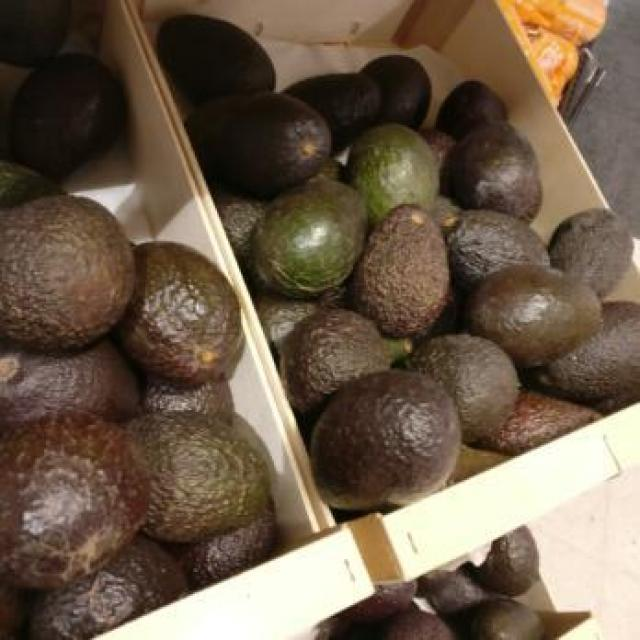Avocado: (0, 414, 153, 592), (101, 232, 247, 384), (305, 372, 460, 512), (0, 193, 136, 344), (129, 408, 283, 539), (202, 85, 333, 202), (388, 322, 515, 436), (247, 170, 364, 292), (467, 256, 609, 356), (355, 200, 454, 340), (441, 199, 559, 287), (443, 119, 546, 219), (351, 121, 440, 228)
